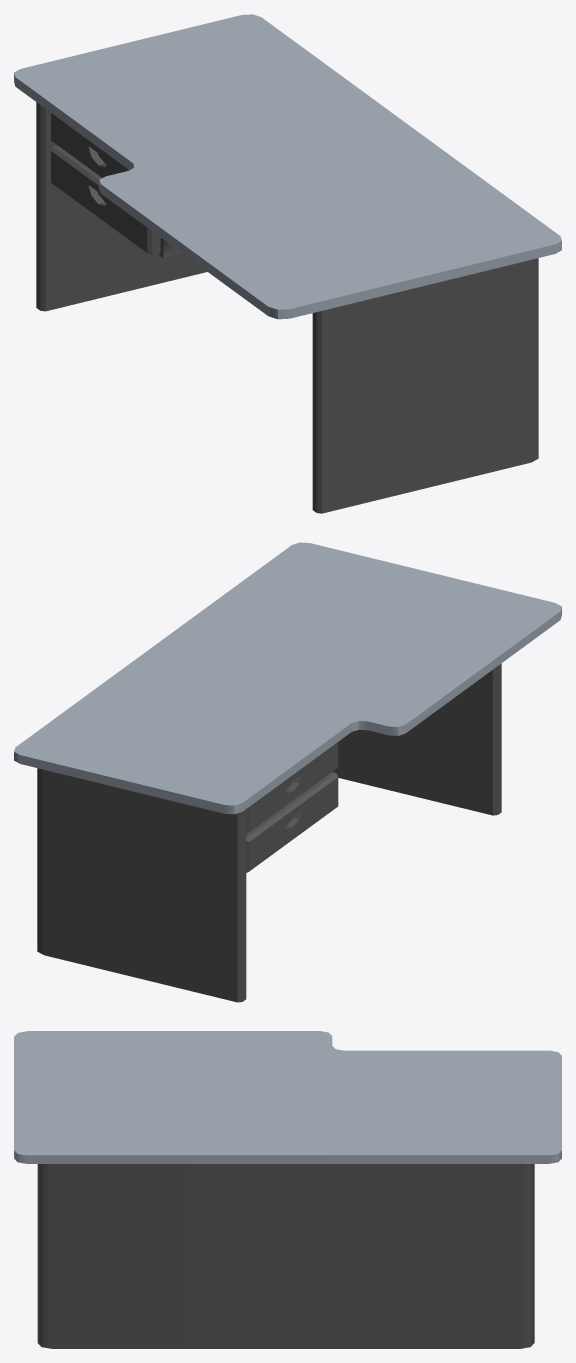
The model's file is Escrtorio.fbx.
3 renders of one model, top to bottom at view 1: azimuth 30°, elevation 25°; view 2: azimuth 150°, elevation 25°; view 3: azimuth 270°, elevation 25°, orthographic. The views are drawn at different scales.
Visible parts, largest first — view 1: Escritorio3; view 2: Escritorio3; view 3: Escritorio3.
Boxes of the visible parts, x1,y1,x2,y2 form: Escritorio3: (14, 14, 561, 513); Escritorio3: (14, 542, 561, 1002); Escritorio3: (14, 1031, 561, 1348).
Size of the model in its own units: 1.06 by 0.7828 by 1.97.
